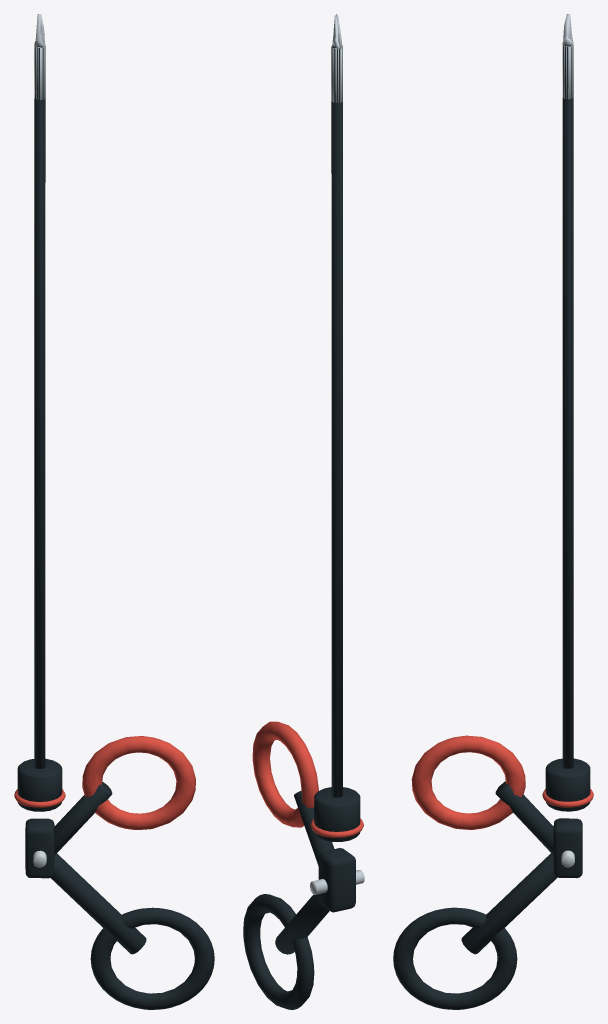
File: inst_lap_scissors.fbx
3 renders of one model, left to right at view 1: azimuth 90°, elevation 25°; view 2: azimuth 210°, elevation 25°; view 3: azimuth 270°, elevation 25°, orthographic. The views are drawn at different scales.
Visible parts, largest first — view 1: inst_lap_scissors_Geometry, Trigger_Geometry; view 2: inst_lap_scissors_Geometry, Trigger_Geometry; view 3: inst_lap_scissors_Geometry, Trigger_Geometry.
Part boxes in pixels (<box>): inst_lap_scissors_Geometry: <box>14,45,214,1009</box>; Trigger_Geometry: <box>54,736,195,854</box>; inst_lap_scissors_Geometry: <box>243,45,364,1009</box>; Trigger_Geometry: <box>252,721,334,865</box>; inst_lap_scissors_Geometry: <box>393,44,593,1009</box>; Trigger_Geometry: <box>411,735,553,854</box>.
Size of the model in its own units: 0.024 by 0.4869 by 0.0889.
